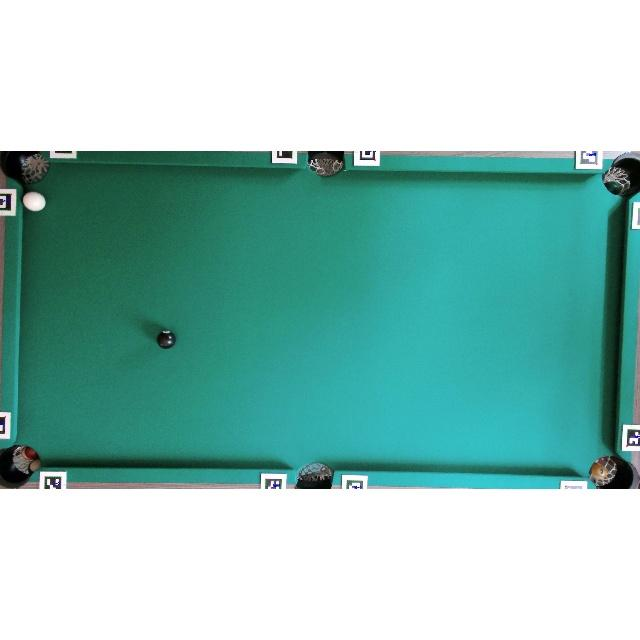cue ball: (22, 190, 47, 212)
other: (156, 329, 176, 349)
